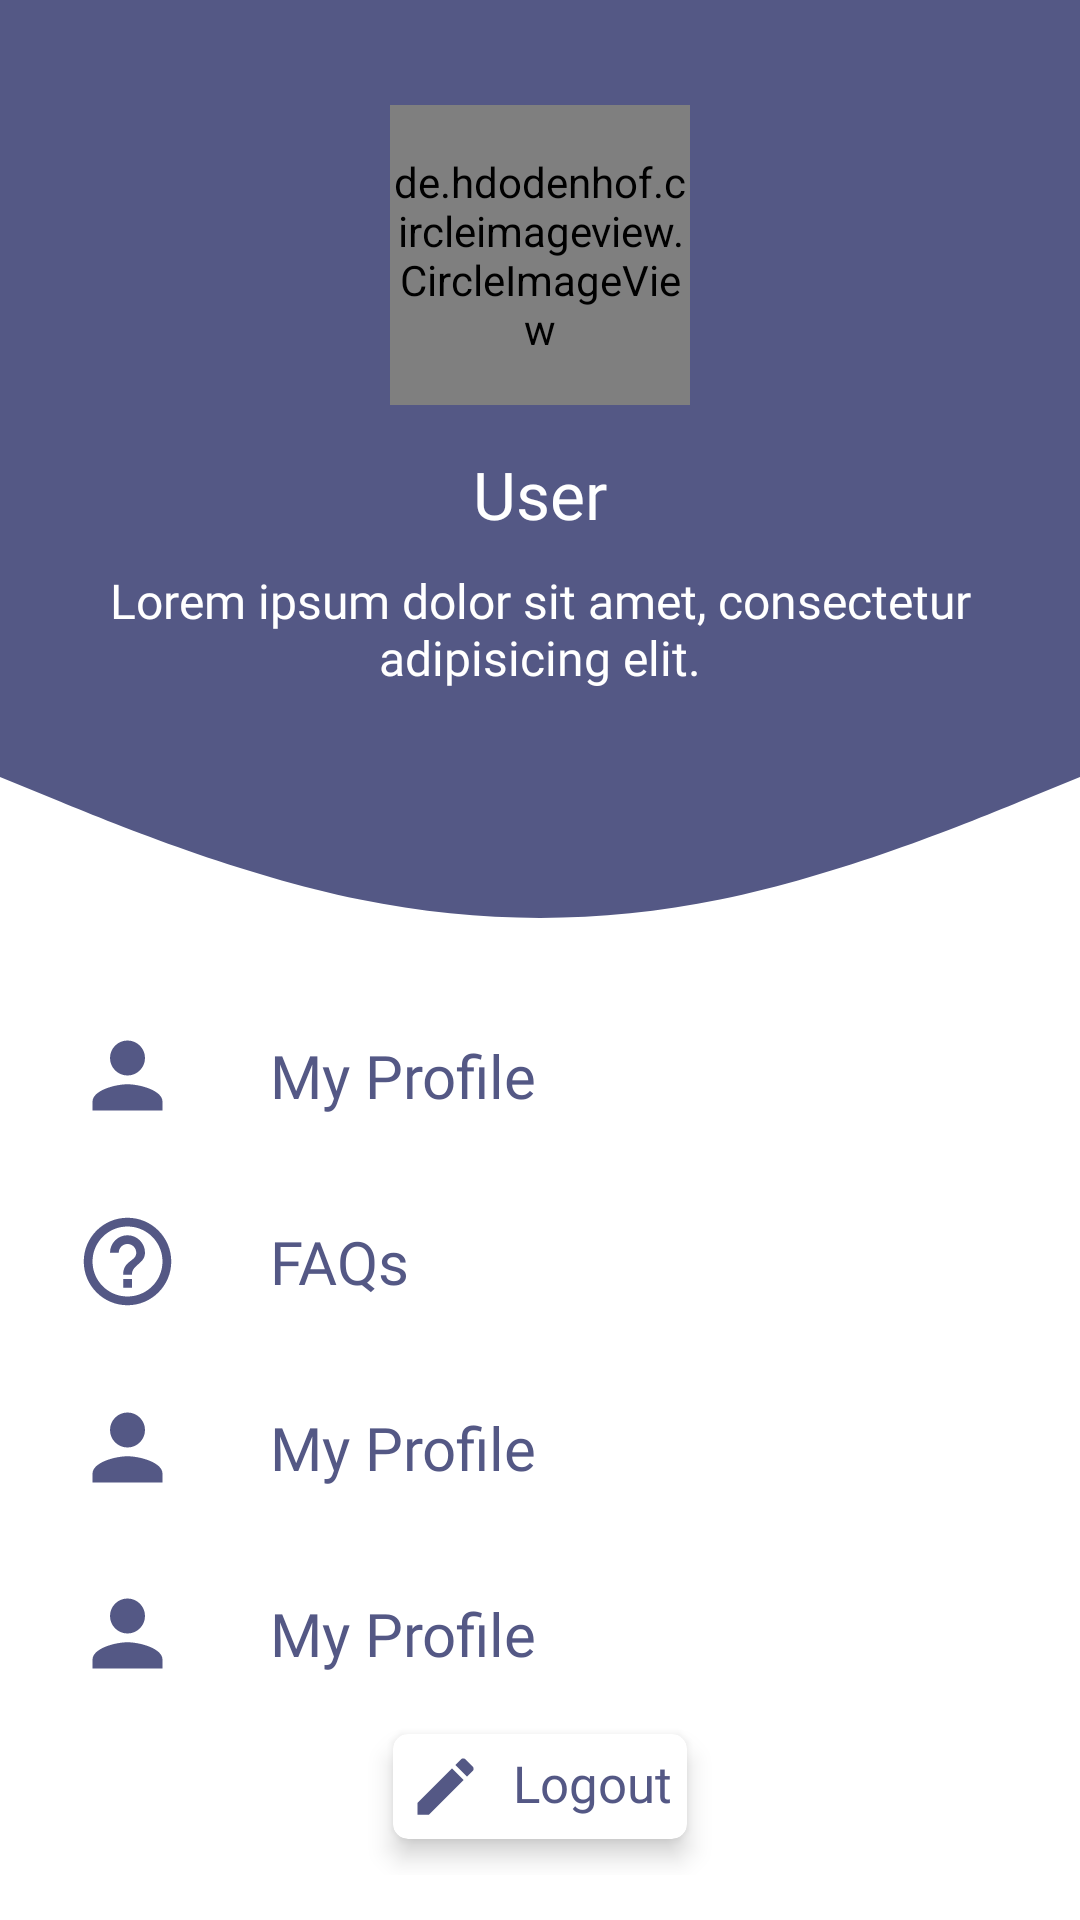

Named icons in this screenshot (1080px×1920px) and their centers, (x,y):
edit: (445,1786)
help: (127,1261)
